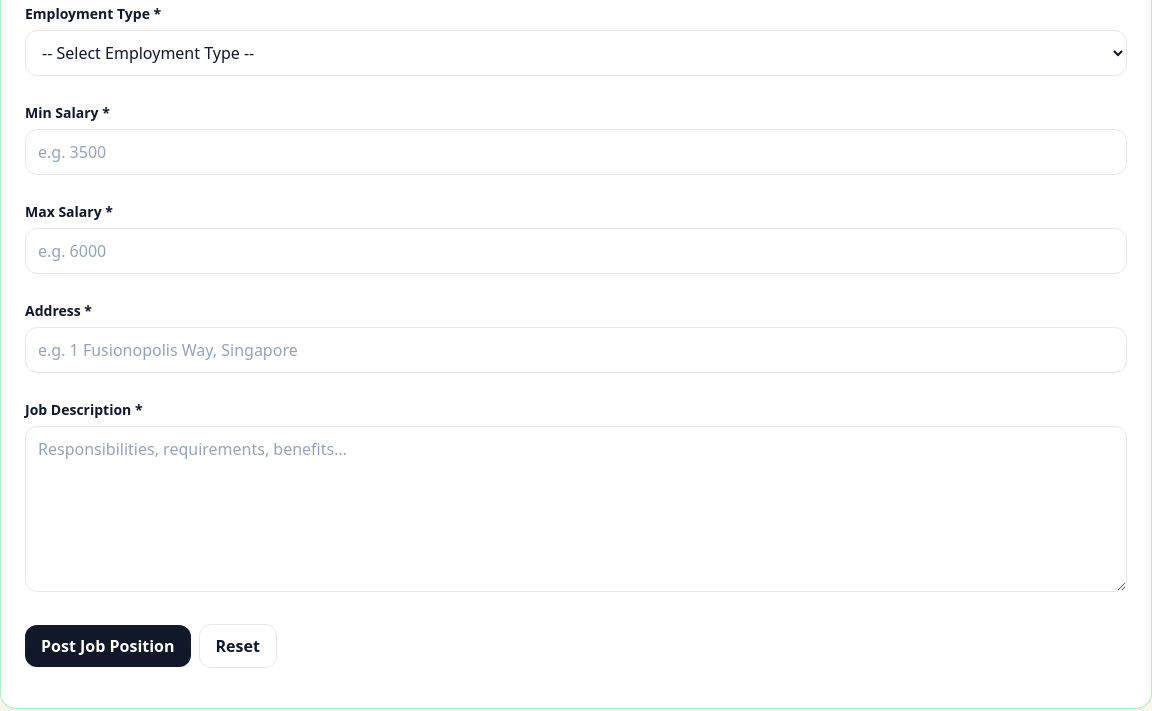
Reset clears fields and errors
(page scrolled)
Step 1. Click the button "Post Job Position" → (108, 646), box 25,625 -> 190,667
(page scrolled)
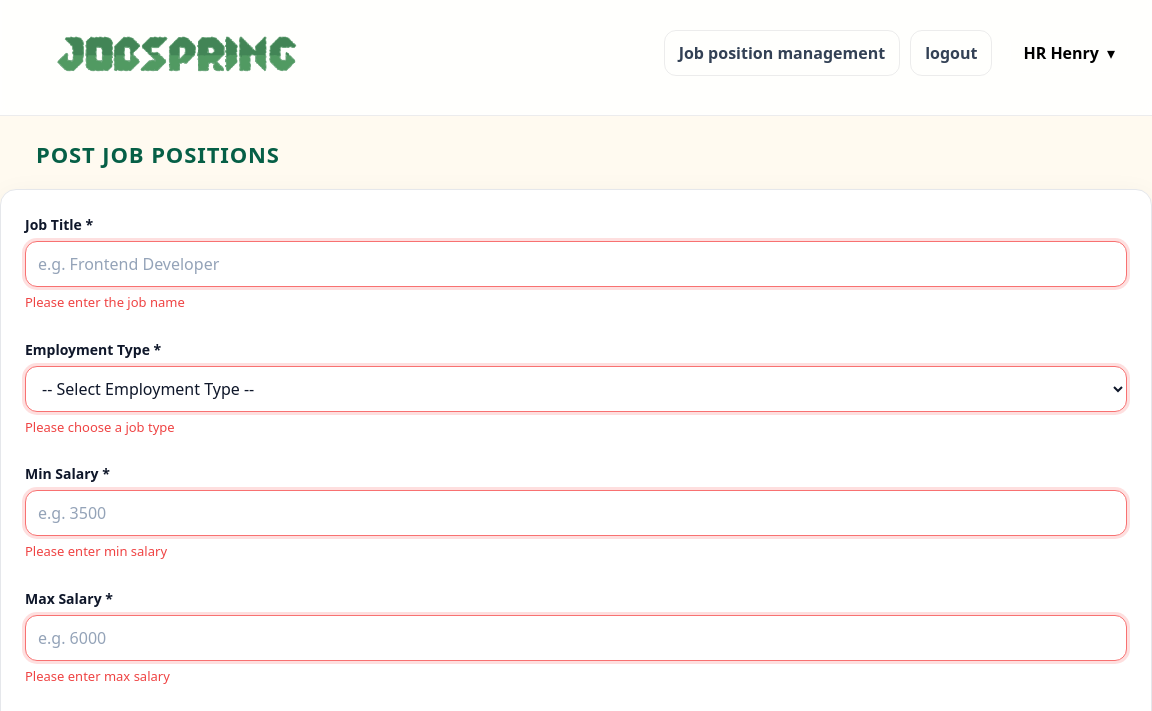
Expected: the text "Please enter the job name" is shown, 25,293 -> 185,311
Step 2. Type "ABC" into the field labelled "Job Title *" → (576, 264), box 25,241 -> 1127,287
(page scrolled)
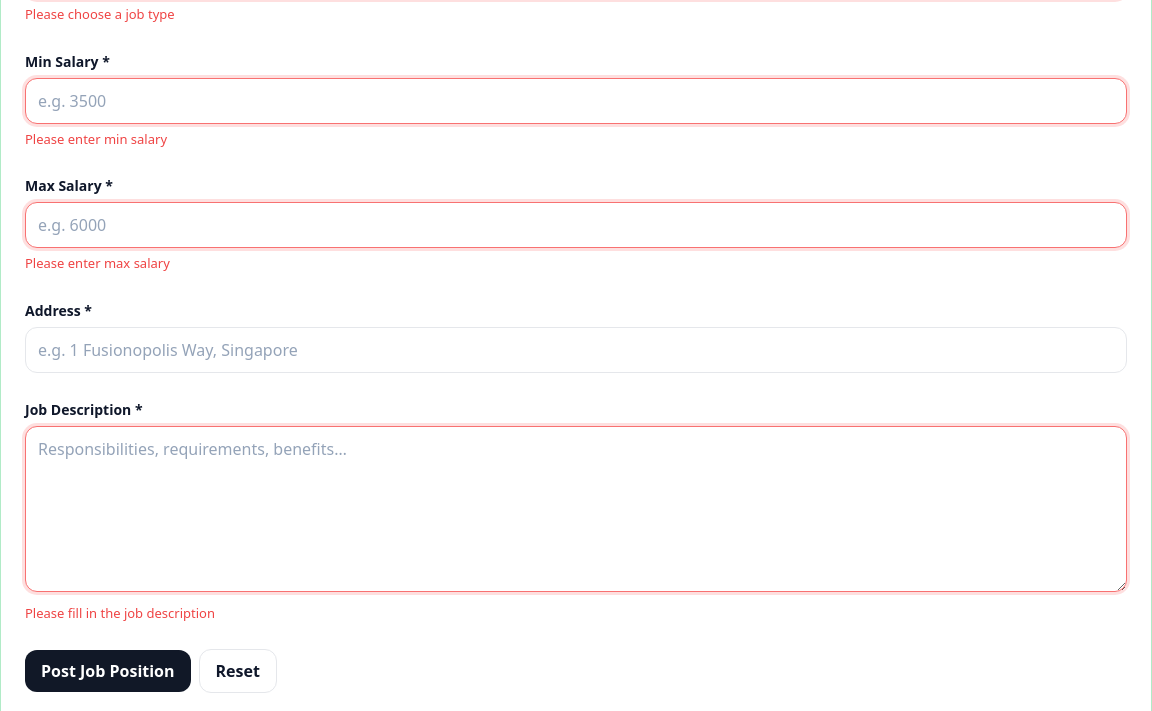
Step 3. Type "SG" into the field labelled "Address *" → (576, 350), box 25,326 -> 1127,372
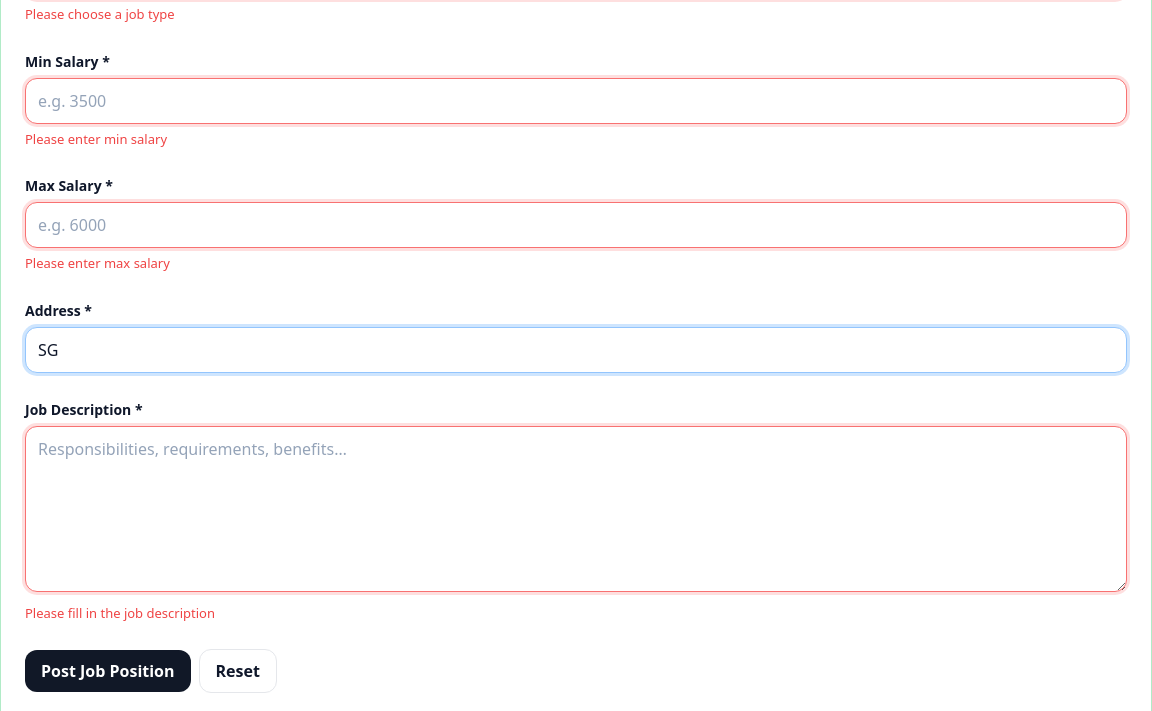
Step 4. Click the button "Reset" → (238, 671), box 198,649 -> 277,693
(page scrolled)
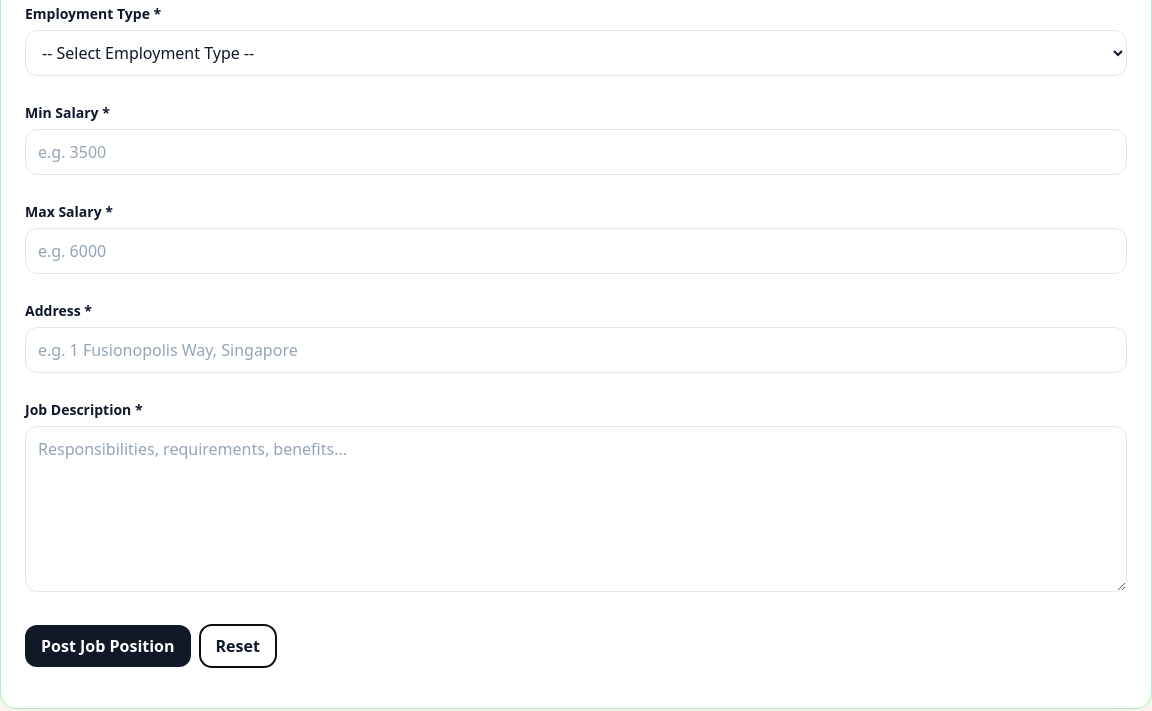
Expected: the text "Please enter the job name" is not shown
Expected: the field labelled "Address *" is empty, 25,327 -> 1127,373
